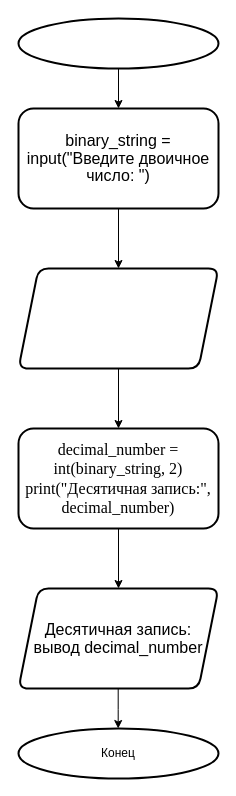
This 236x796 diagram has some shape labels left out. The centre of each missing label's shape, as x and y in pixels:
Введите двоичное число: ввод binary_string: [118,318]
Начало: [118,43]
